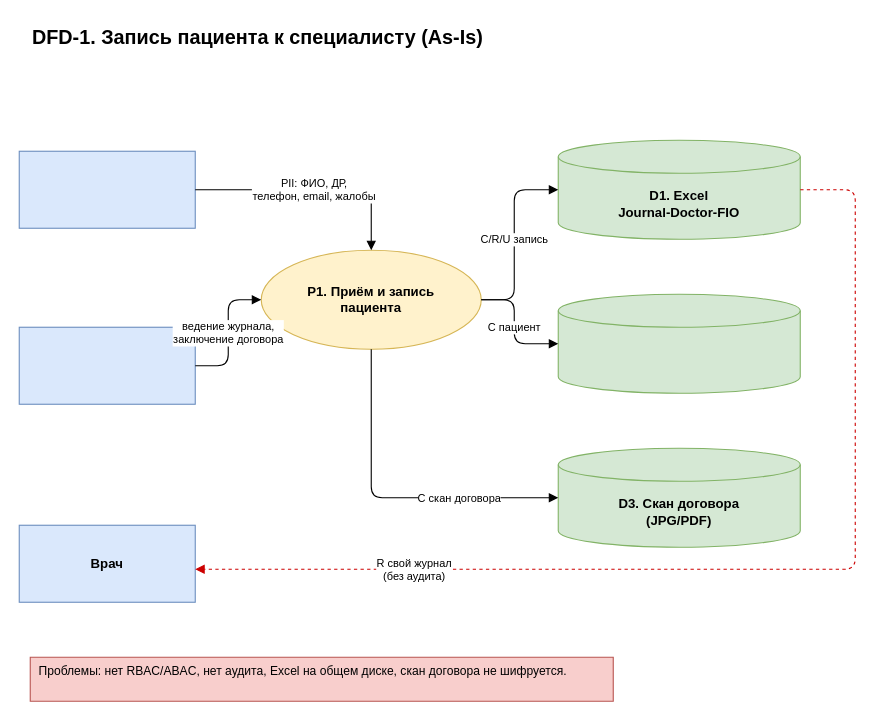
Image size: 883x721. Some labels were removed from this diagram. The shapes that lost their labels are listed below. From the top down, each one's centre as x and y in pixels, then its label:
At [106,189]: "Пациент".
At [678,343]: "D2. Excel Patients".
At [106,365]: "Администратор (ресепшен)".
